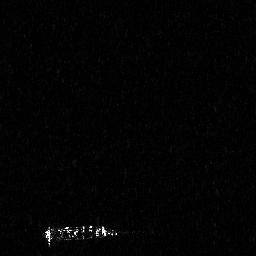ship: (40, 220, 126, 248)
